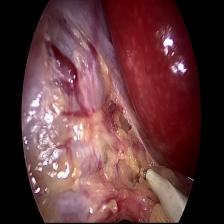Hook: (134, 164, 190, 224)
